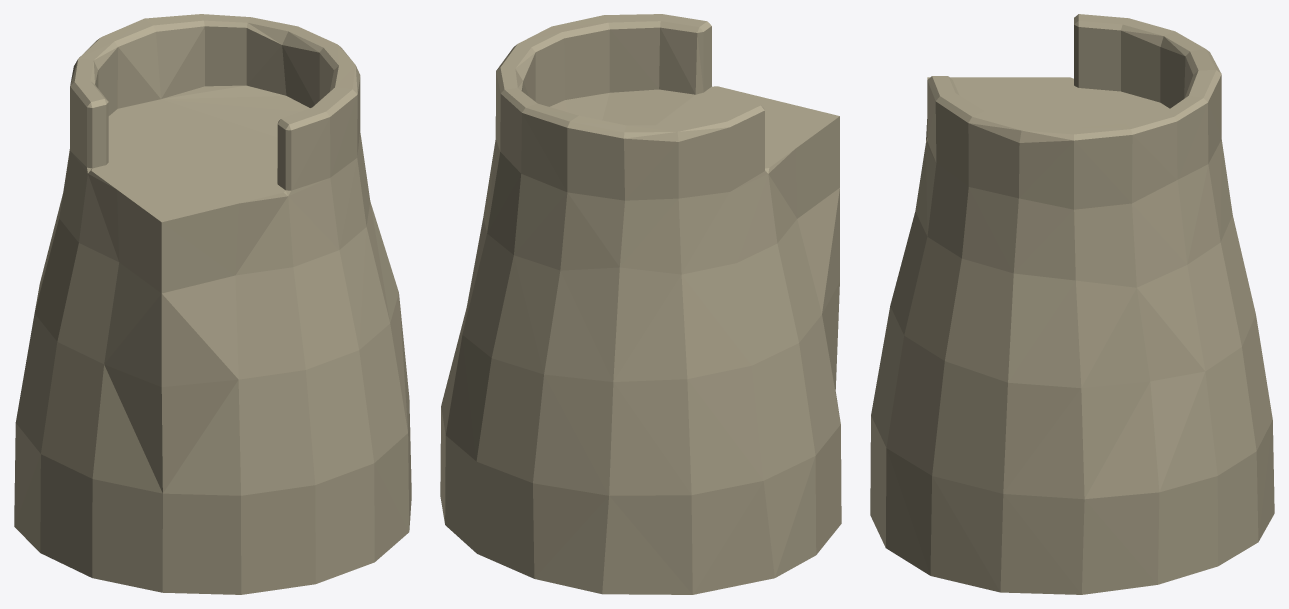
Rendered from Tower_small.fbx.
The picture shows the model from 3 angles, left to right: view 1: azimuth 30°, elevation 25°; view 2: azimuth 150°, elevation 25°; view 3: azimuth 270°, elevation 25°; orthographic projection.
Visible parts, largest first — view 1: Tower_small; view 2: Tower_small; view 3: Tower_small.
Part boxes in pixels (x1,y1,x2,y2): Tower_small: [14, 14, 411, 594]; Tower_small: [440, 14, 841, 594]; Tower_small: [870, 14, 1274, 594].
Size of the model in its own units: 3.68 by 4.48 by 3.68.
